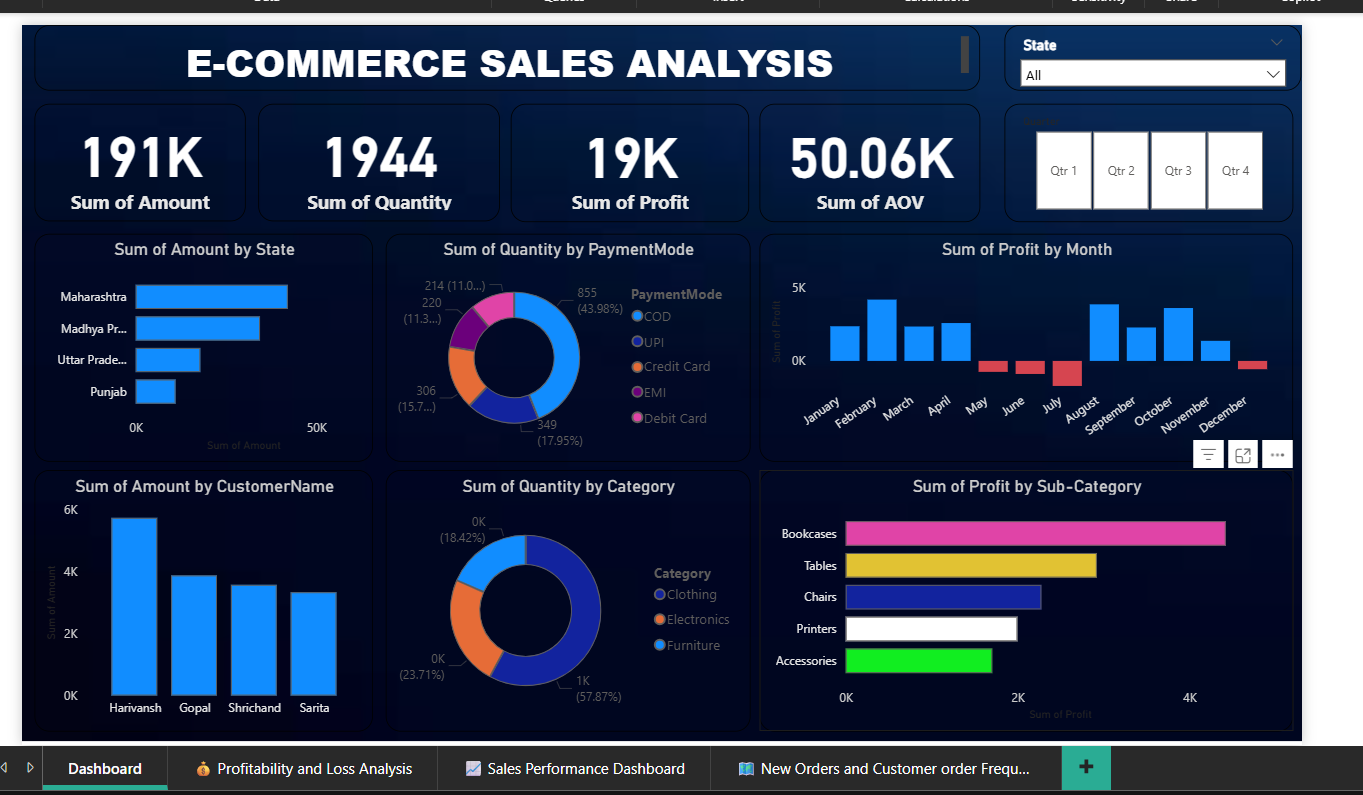

Layout of this report page (visuals, bound fields, positions):
{"tool":"powerbi","page":{"name":"Dashboard ","canvas":[1280,720],"ordinal":0},"visuals":[{"type":"textbox","box":[12.9,0,945.7,65.7],"z":0},{"type":"columnChart","fields":{"Category":["Orders (2).Order Date.Variation.Date Hierarchy.Month"],"Y":["Details.Profit"]},"box":[737.4,208.6,533.7,228.2],"z":1000},{"type":"barChart","fields":{"Category":["Details.Sub-Category"],"Y":["Details.Profit"]},"box":[737.4,445.4,533.7,261.4],"z":2000},{"type":"donutChart","fields":{"Category":["Details.Category"],"Y":["Details.Quantity"]},"box":[363.2,445.4,364.4,261.4],"z":3000},{"type":"donutChart","fields":{"Category":["Details.PaymentMode"],"Y":["Details.Quantity"]},"box":[363.2,208.6,364.4,228.2],"z":4000},{"type":"card","fields":{"Values":["Details.Amount"]},"box":[12.3,78.5,211,117.8],"z":5000},{"type":"card","fields":{"Values":["Details.Quantity"]},"box":[236.8,78.5,241.7,117.8],"z":6000},{"type":"card","fields":{"Values":["Details.Profit"]},"box":[488.5,78.2,238.8,118],"z":7000},{"type":"card","fields":{"Values":["Details.AOV"]},"box":[736.9,78.2,220.9,118],"z":8000},{"type":"barChart","fields":{"Category":["Orders (2).State"],"Y":["Details.Amount"]},"box":[12.3,208.6,338.7,228.2],"z":9000},{"type":"columnChart","fields":{"Category":["Orders (2).CustomerName"],"Y":["Details.Amount"]},"box":[12.3,445.4,338.7,261.4],"z":10000},{"type":"slicer","fields":{"Values":["Orders (2).Order Date.Variation.Date Hierarchy.Quarter"]},"box":[982.9,78.6,288.6,118.6],"z":11000},{"type":"slicer","fields":{"Values":["Orders (2).State"]},"box":[982.9,0,297.1,65.7],"z":12000}]}

Visuals, with their boxes on the page's 1280x720 design canvas (x1, y1, x2, y2). These are canvas units, not pixel positions in the 1363x795 screenshot, which may show the page scaled, cropped or inside an application window:
textbox: BBox(13, 0, 959, 66)
columnChart - Orders (2).Order Date.Variation.Date Hierarchy.Month x Details.Profit: BBox(737, 209, 1271, 437)
barChart - Details.Sub-Category x Details.Profit: BBox(737, 445, 1271, 707)
donutChart - Details.Category x Details.Quantity: BBox(363, 445, 728, 707)
donutChart - Details.PaymentMode x Details.Quantity: BBox(363, 209, 728, 437)
card - Details.Amount: BBox(12, 78, 223, 196)
card - Details.Quantity: BBox(237, 78, 478, 196)
card - Details.Profit: BBox(488, 78, 727, 196)
card - Details.AOV: BBox(737, 78, 958, 196)
barChart - Orders (2).State x Details.Amount: BBox(12, 209, 351, 437)
columnChart - Orders (2).CustomerName x Details.Amount: BBox(12, 445, 351, 707)
slicer - Orders (2).Order Date.Variation.Date Hierarchy.Quarter: BBox(983, 79, 1272, 197)
slicer - Orders (2).State: BBox(983, 0, 1280, 66)
